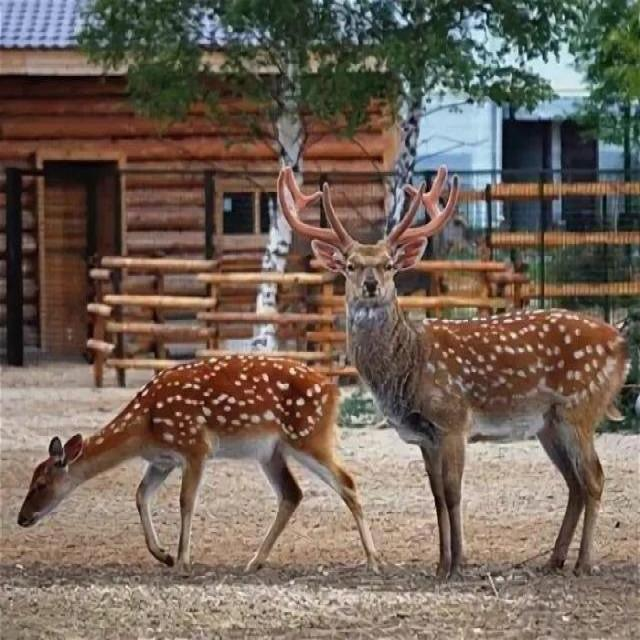deer: (287, 129, 640, 640), (0, 270, 387, 640)
